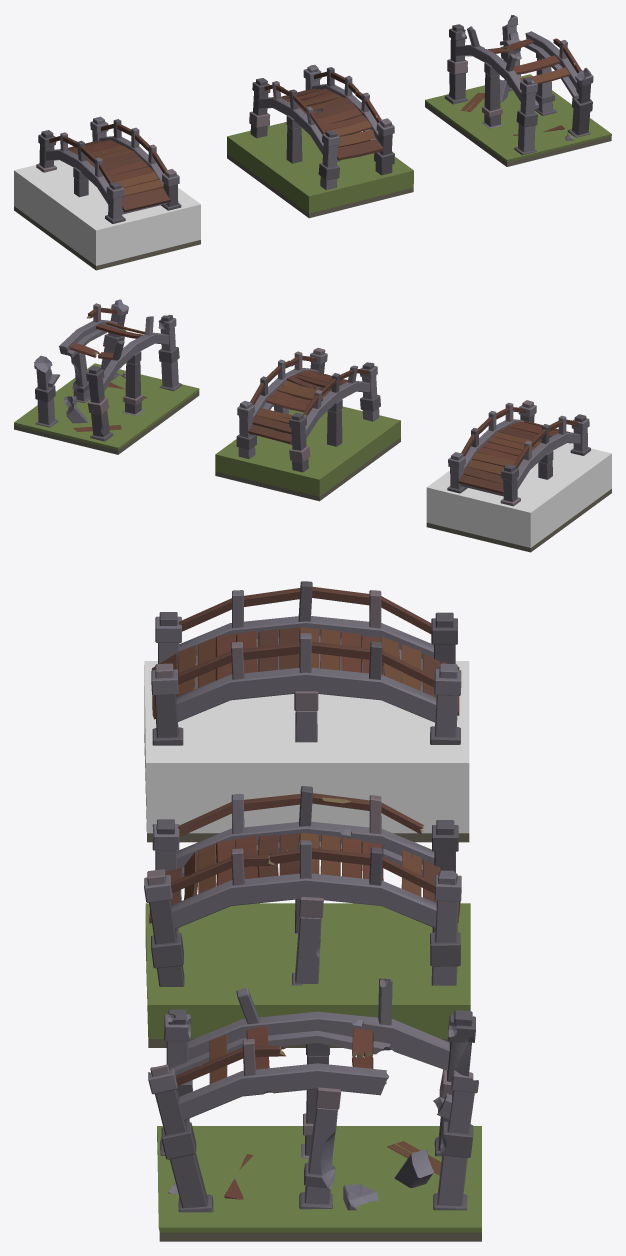
Rendered from new_old 1.fbx.
3 views of the same model, one above another, from view 1: azimuth 30°, elevation 25°; view 2: azimuth 150°, elevation 25°; view 3: azimuth 270°, elevation 25° (orthographic). The views are drawn at different scales.
Visible parts, largest first — view 1: Cube.050, Cube.046, Cube.070, Cube.065, Cube.028, Cube.043, Cube.025, Cube.018, Cube.040, Cube.041, Cube.048, Cube.054 (+17 smaller); view 2: Cube.050, Cube.046, Cube.070, Cube.027, Cube.065, Cube.042, Cube.025, Cube.018, Cube.040, Cube.041, Cube.057, Cube.054 (+17 smaller); view 3: Cube.050, Cube.046, Cube.070, Cube.065, Cube.040, Cube.018, Cube.025, Cube.041, Cube.057, Cube.051, Cube.028, Cube.043 (+20 smaller).
Boxes of the visible parts, x1,y1,x2,y2 form: Cube.050: (14,160,200,270); Cube.046: (227,122,413,218); Cube.070: (425,74,611,166); Cube.065: (454,31,578,109); Cube.028: (89,151,170,212); Cube.043: (302,97,383,160); Cube.025: (49,119,167,184); Cube.018: (45,136,168,214); Cube.040: (257,84,378,161); Cube.041: (264,67,381,134); Cube.048: (516,77,537,152); Cube.054: (447,24,467,100); Cube.050: (426,443,611,552); Cube.046: (215,398,400,501); Cube.070: (14,363,199,454); Cube.027: (457,432,540,493); Cube.065: (48,319,168,423); Cube.042: (248,380,329,443); Cube.025: (461,402,577,468); Cube.018: (460,419,580,496); Cube.040: (249,368,370,444); Cube.041: (250,351,368,416); Cube.057: (34,355,77,424); Cube.054: (86,365,109,436); Cube.050: (144,661,469,842); Cube.046: (145,903,470,1047); Cube.070: (157,1126,481,1241); Cube.065: (170,1011,451,1187); Cube.040: (172,821,436,928); Cube.018: (160,616,436,722); Cube.025: (177,581,434,687); Cube.041: (171,786,434,893); Cube.057: (343,1070,478,1210); Cube.051: (148,1064,207,1208); Cube.028: (151,627,299,719); Cube.043: (149,833,299,923).
Size of the model in its own units: 8141 by 1384 by 2318.
